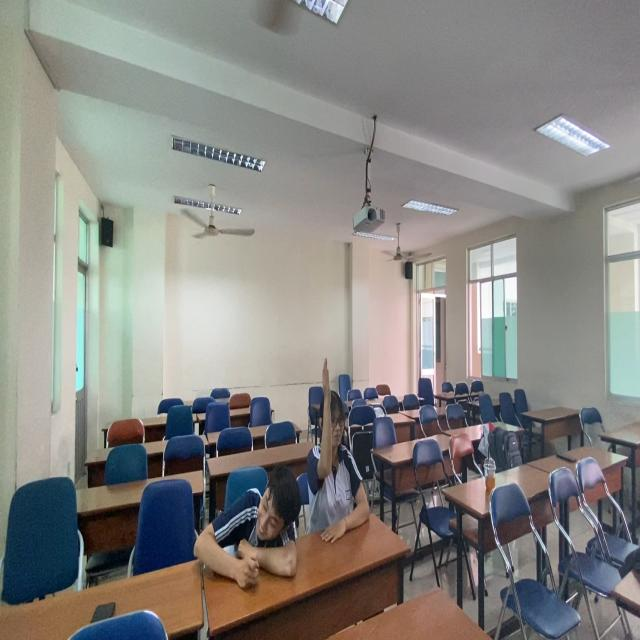raise_hand: (294, 352, 375, 538)
